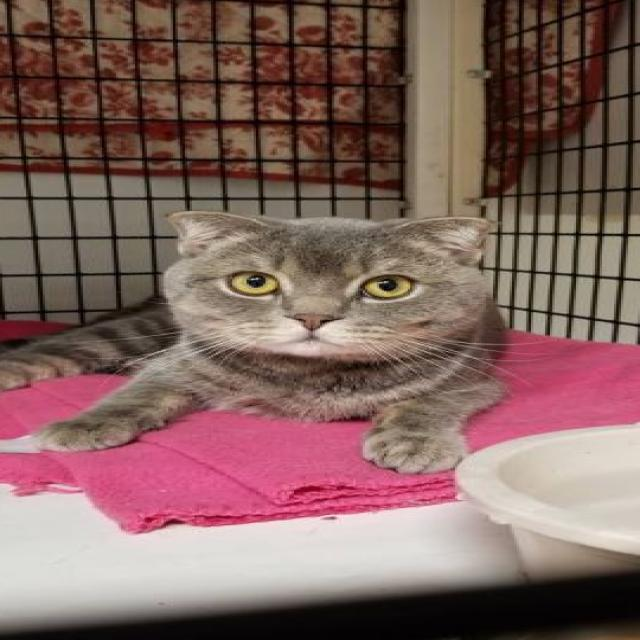Scottish Fold: (0, 204, 524, 480)
